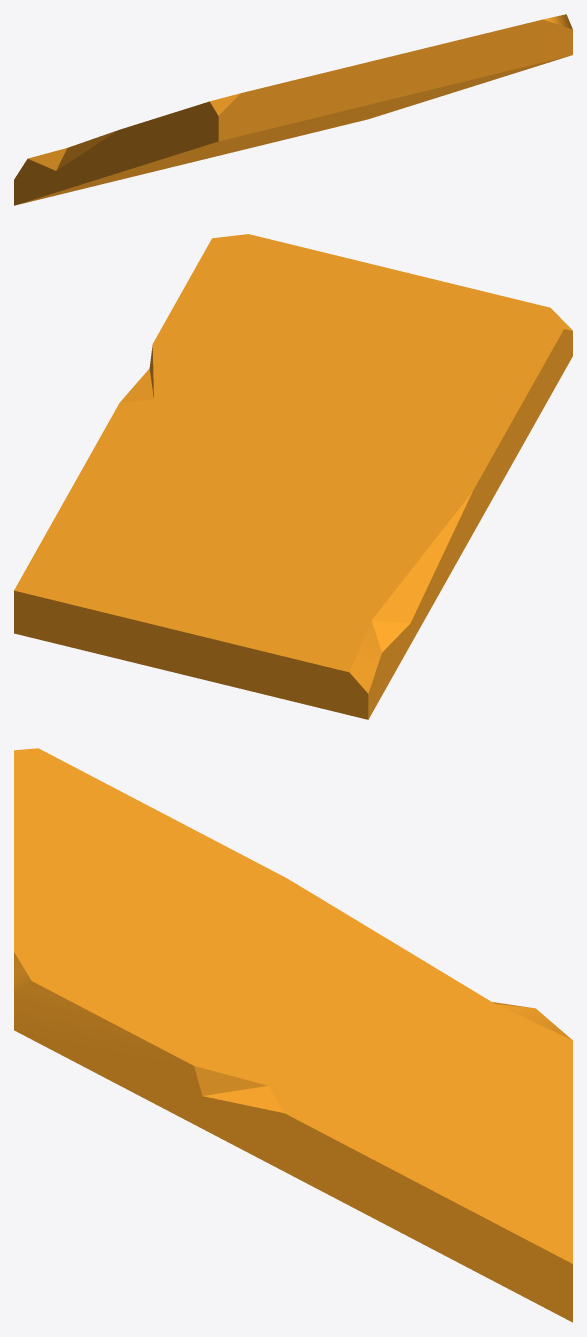
The model's file is SM_Buildings_RoofAngled_1x1_01P.fbx.
3 renders of one model, top to bottom at view 1: azimuth 30°, elevation 25°; view 2: azimuth 150°, elevation 25°; view 3: azimuth 270°, elevation 25°, orthographic. The views are drawn at different scales.
Visible parts, largest first — view 1: SM_Buildings_RoofAngled_1x1_01P; view 2: SM_Buildings_RoofAngled_1x1_01P; view 3: SM_Buildings_RoofAngled_1x1_01P.
Boxes of the visible parts, x1,y1,x2,y2 form: SM_Buildings_RoofAngled_1x1_01P: (14,14,572,205); SM_Buildings_RoofAngled_1x1_01P: (14,234,572,719); SM_Buildings_RoofAngled_1x1_01P: (14,748,572,1322).
Size of the model in its own units: 100 by 69.29 by 100.
